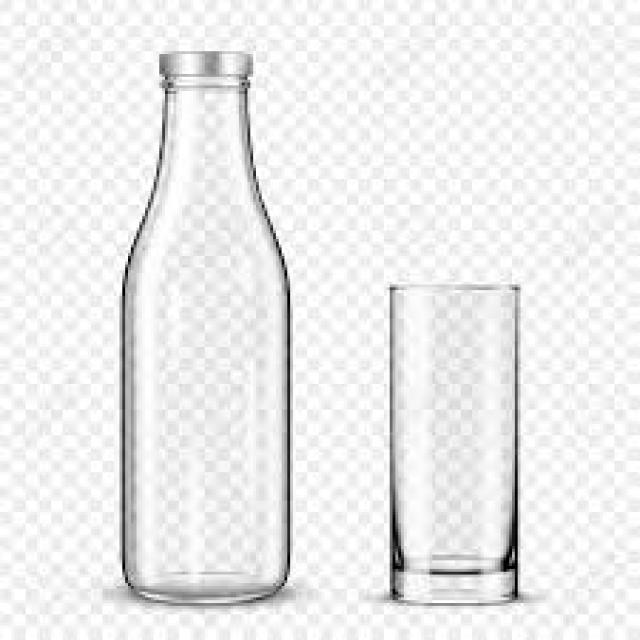Glass: (120, 81, 296, 605), (386, 280, 522, 604)
